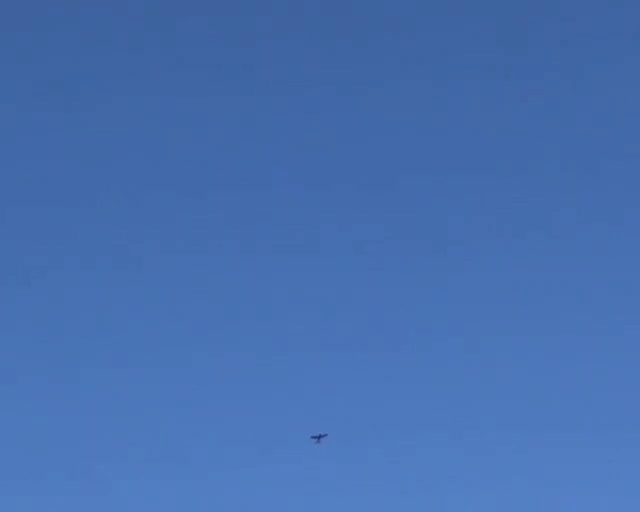AIRPLANE: (310, 432, 328, 443)
